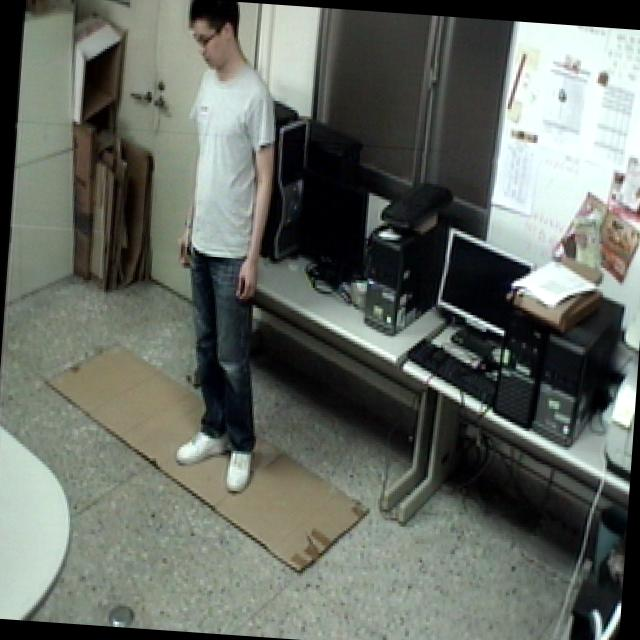stand: (147, 0, 300, 499)
